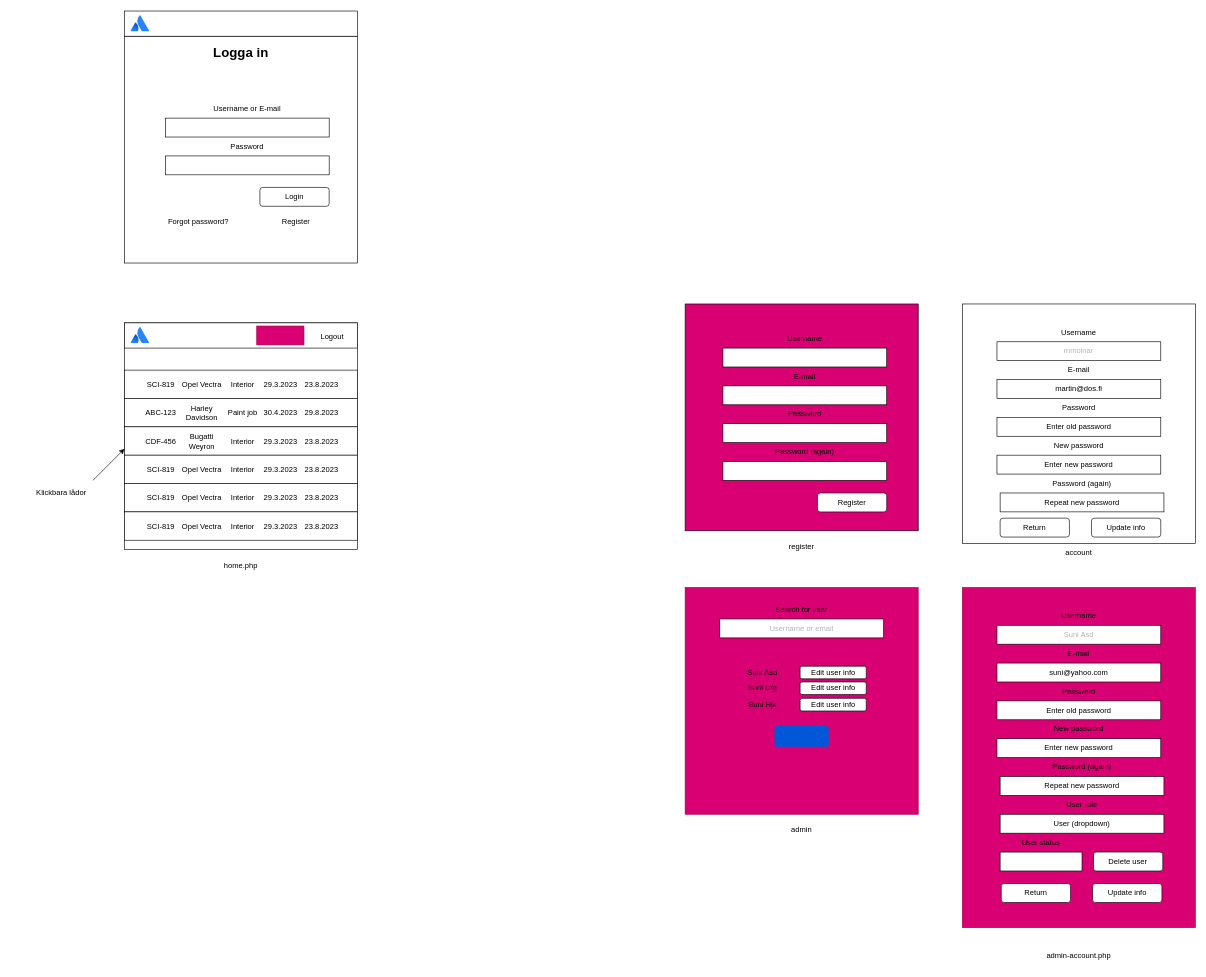
The diagram is 1206 pixels wide and 977 high, and some of its shapes have lost their labels. Each missing label, with the centre of its shape:
"Active (dropdown)" goes at pixel 1040 861.
"Admin page" goes at pixel 280 335.
"Primary" goes at pixel 801 736.
